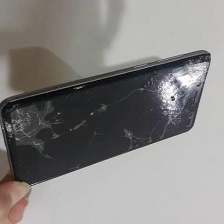phone: (0, 46, 218, 194)
